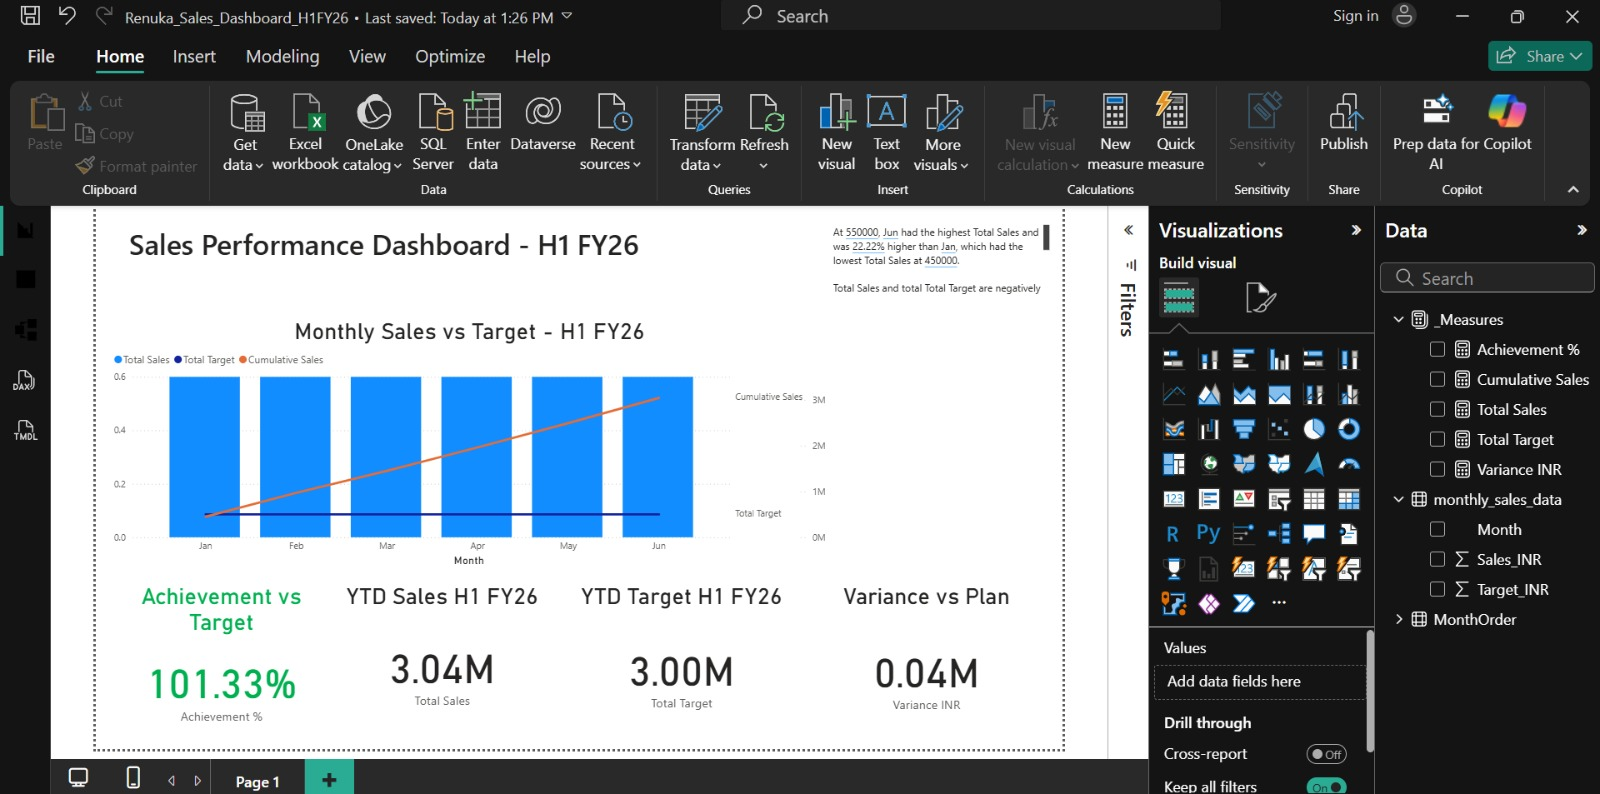

Layout of this report page (visuals, bound fields, positions):
{"tool":"powerbi","page":{"name":"Page 1","canvas":[1280,720],"ordinal":0},"visuals":[{"type":"lineClusteredColumnComboChart","title":"Monthly Sales vs Target - H1 FY26","fields":{"Y":["_Measures.Total Sales"],"Category":["MonthOrder.Month"],"Y2":["_Measures.Total Target","_Measures.Cumulative Sales"]},"box":[18.2,149.1,954.1,333],"z":0},{"type":"card","title":"YTD Sales H1 FY26","fields":{"Values":["_Measures.Total Sales"]},"box":[314.7,500.3,288.2,198.8],"z":1000},{"type":"card","title":"YTD Target H1 FY26","fields":{"Values":["_Measures.Total Target"]},"box":[612.9,500.3,326.3,205.4],"z":2000},{"type":"card","title":"Achievement vs Target","fields":{"Values":["_Measures.Achievement %"]},"box":[18.2,500.3,296.5,205.4],"z":3000},{"type":"card","title":"Variance vs Plan ","fields":{"Values":["_Measures.Variance INR"]},"box":[950.8,500.3,299.8,210.4],"z":4000},{"type":"textbox","box":[29.8,19.9,704,106],"z":5000},{"type":"textbox","box":[972.4,19.9,296.5,106],"z":5001}]}

Visuals, with their boxes on the page's 1280x720 design canvas (x1, y1, x2, y2). These are canvas units, not pixel positions in the 1600x794 screenshot, which may show the page scaled, cropped or inside an application window:
"Monthly Sales vs Target - H1 FY26" lineClusteredColumnComboChart: {"left": 18, "top": 149, "right": 972, "bottom": 482}
"YTD Sales H1 FY26" card: {"left": 315, "top": 500, "right": 603, "bottom": 699}
"YTD Target H1 FY26" card: {"left": 613, "top": 500, "right": 939, "bottom": 706}
"Achievement vs Target" card: {"left": 18, "top": 500, "right": 315, "bottom": 706}
"Variance vs Plan " card: {"left": 951, "top": 500, "right": 1251, "bottom": 711}
textbox: {"left": 30, "top": 20, "right": 734, "bottom": 126}
textbox: {"left": 972, "top": 20, "right": 1269, "bottom": 126}
